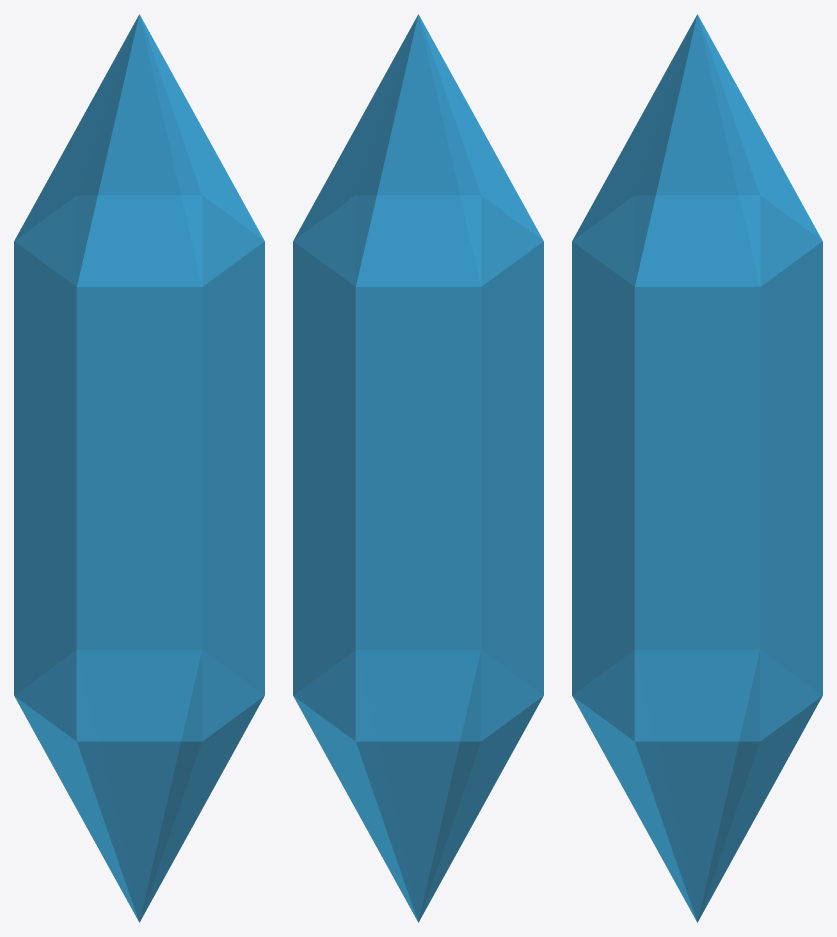
The model's file is Crystal.fbx.
3 renders of one model, left to right at view 1: azimuth 30°, elevation 25°; view 2: azimuth 150°, elevation 25°; view 3: azimuth 270°, elevation 25°, orthographic.
Parts seen in each view (by area): view 1: Cube; view 2: Cube; view 3: Cube.
Part boxes in pixels (<box>): Cube: <box>14,14,264,922</box>; Cube: <box>293,14,543,922</box>; Cube: <box>572,14,822,922</box>.
Size of the model in its own units: 43.3 by 200 by 50.
